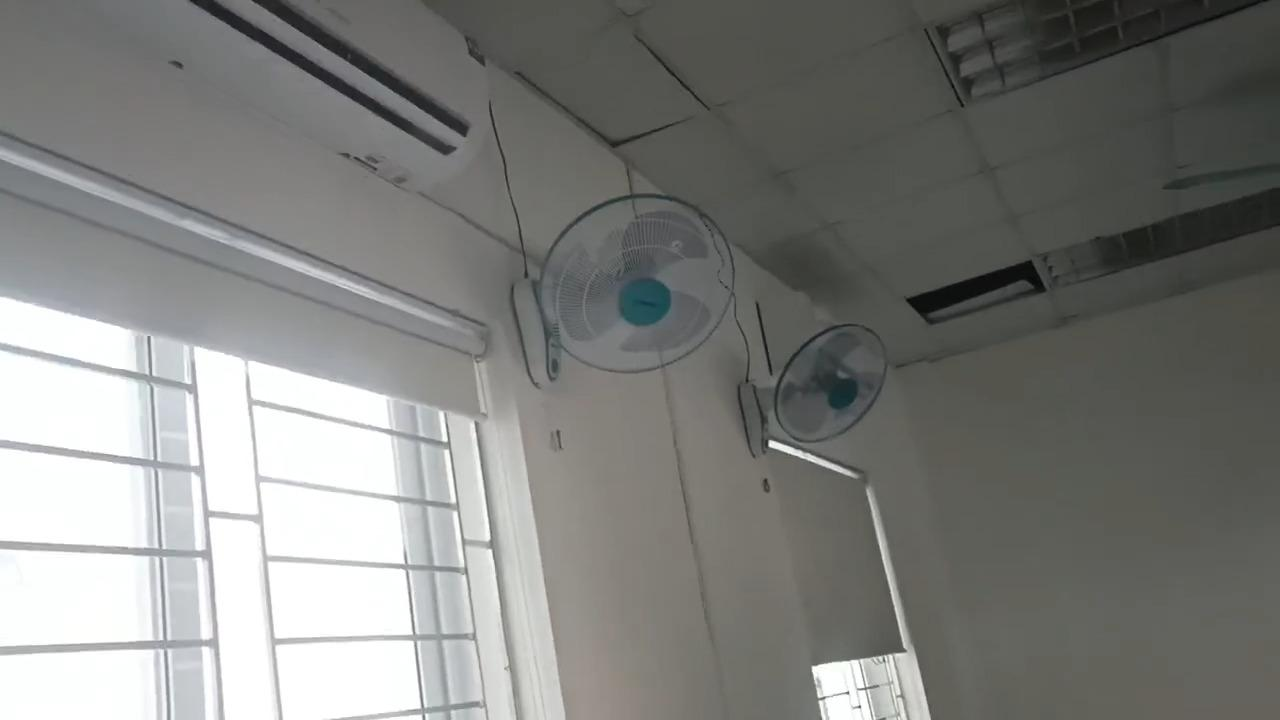fan: (514, 197, 728, 386), (742, 323, 887, 457)
